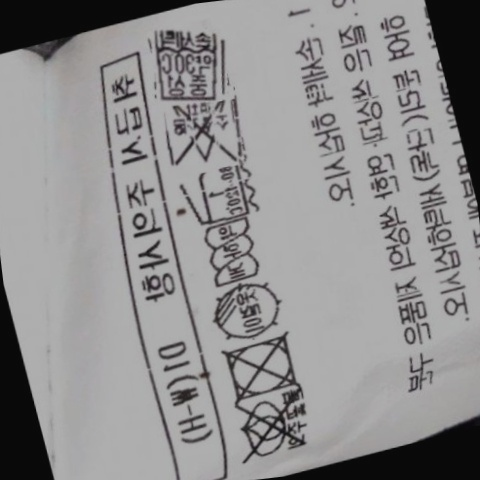DN_tumble_dry: (217, 329, 308, 403)
hand_wash: (146, 25, 232, 104)
iron_low: (181, 161, 255, 228)
line_dry_in_shade: (204, 278, 289, 344)
wring: (201, 217, 264, 289)
